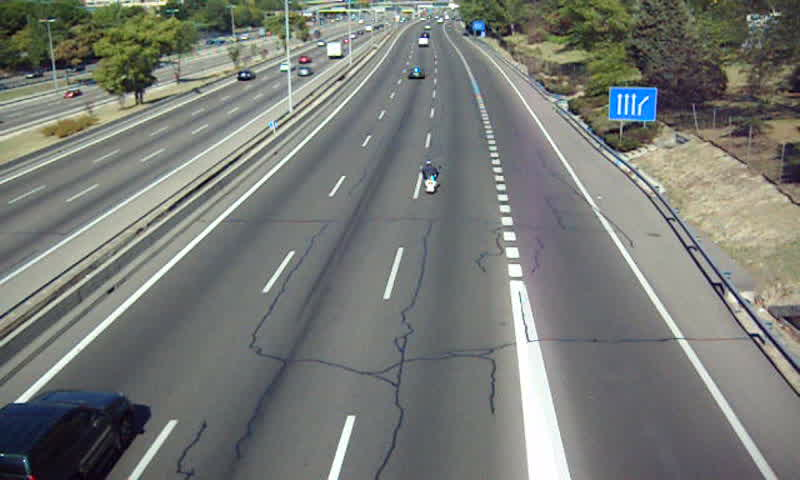car: (406, 66, 427, 82)
motorcycle: (419, 160, 439, 194)
